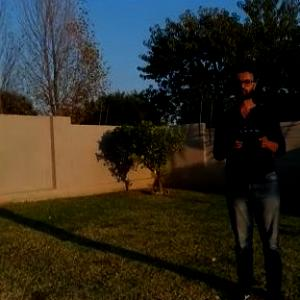follow: (207, 59, 298, 299)
